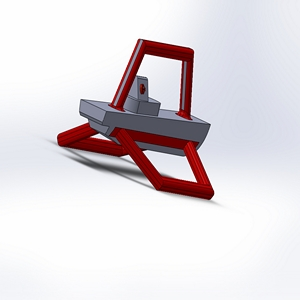submarine: (47, 18, 232, 215)
